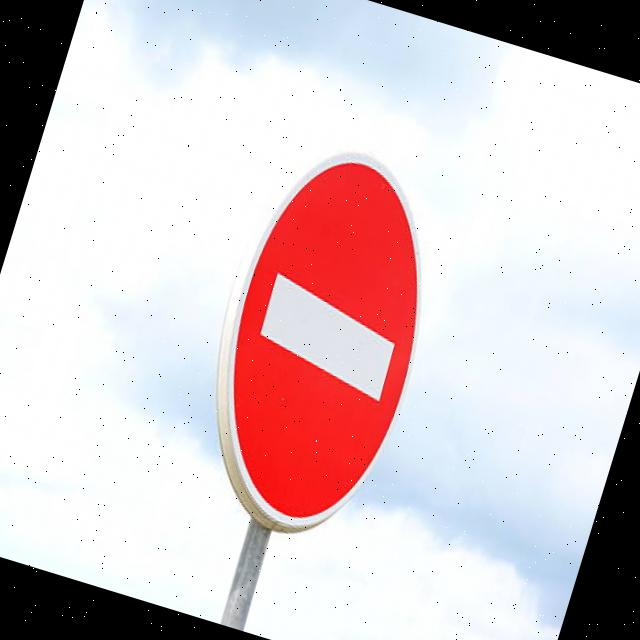do_not_enter: (165, 111, 486, 572)
